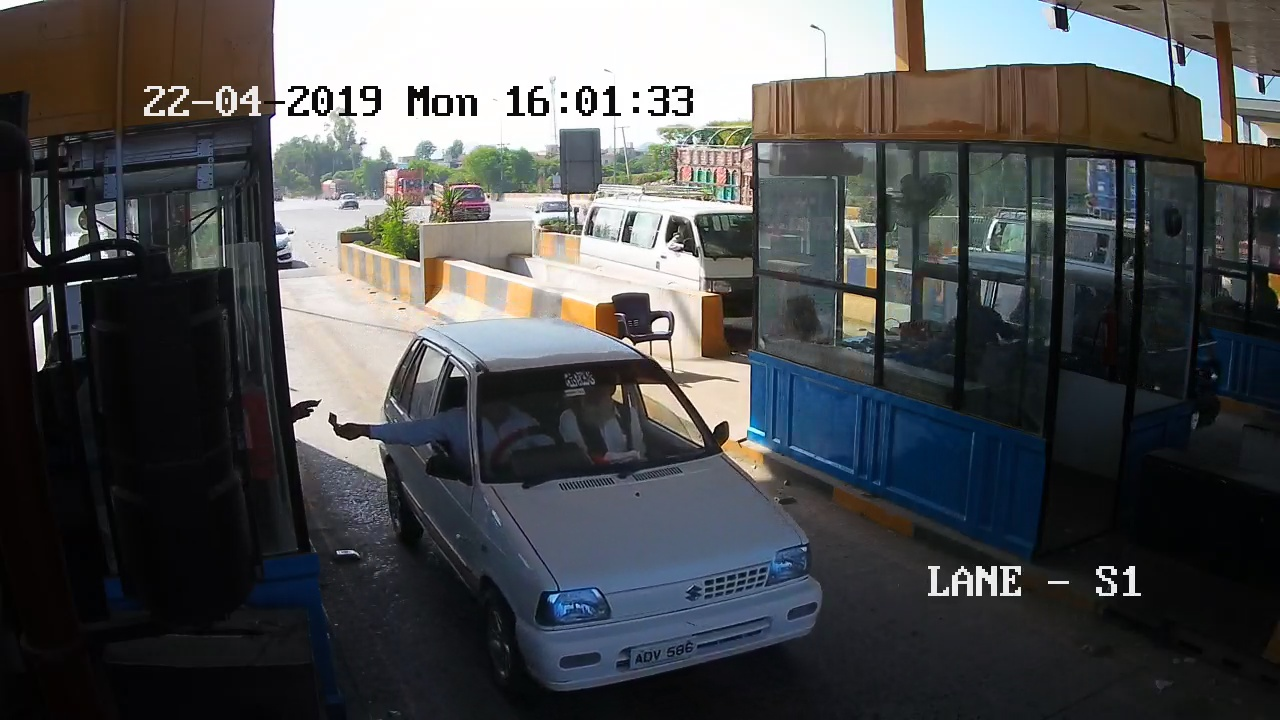car: (384, 320, 839, 720)
